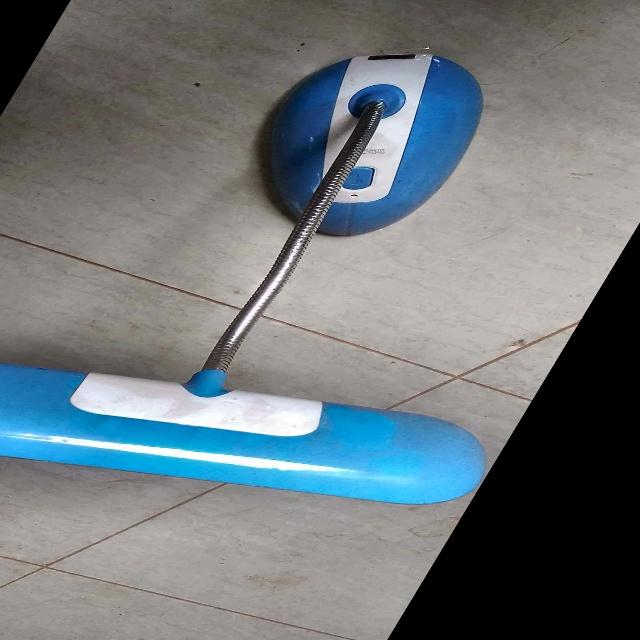Lantern: (0, 16, 640, 518)
